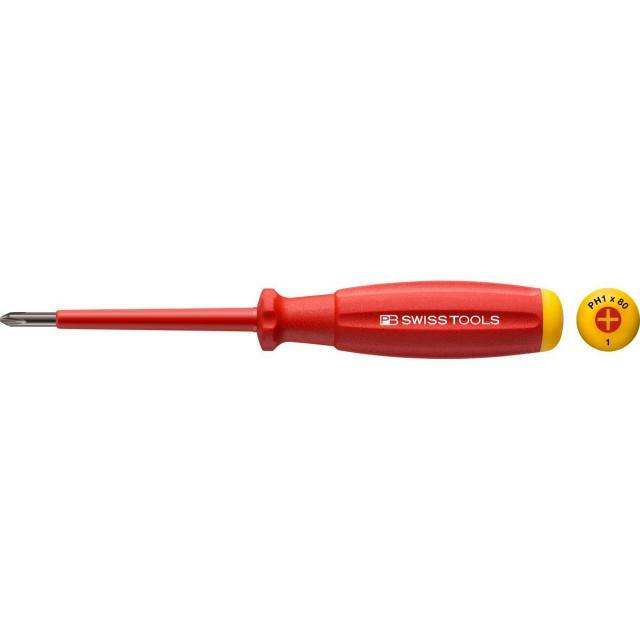screwdriver: (0, 277, 572, 363)
